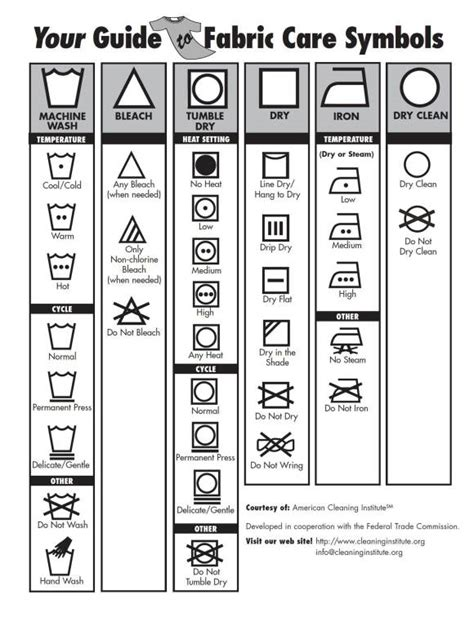do_not_bleach: (109, 295, 156, 324)
do_not_dry_clean: (397, 203, 441, 232)
do_not_iron: (322, 377, 368, 405)
do_not_wash: (37, 494, 83, 520)
